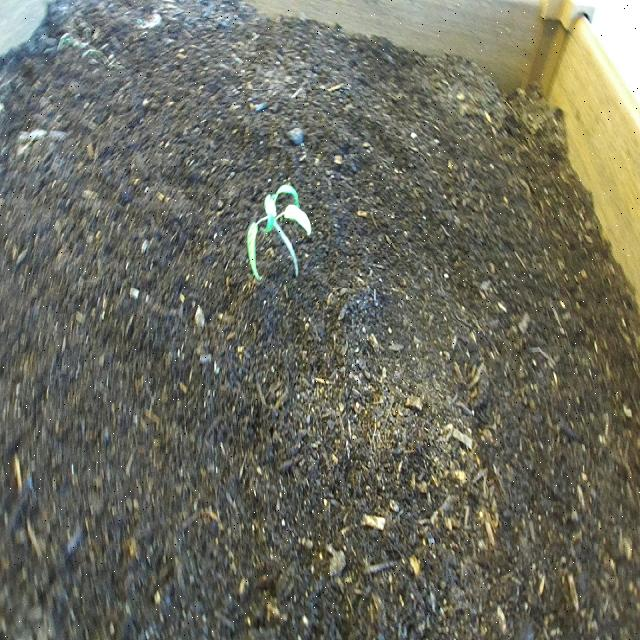Unhealthy: (244, 179, 315, 289)
